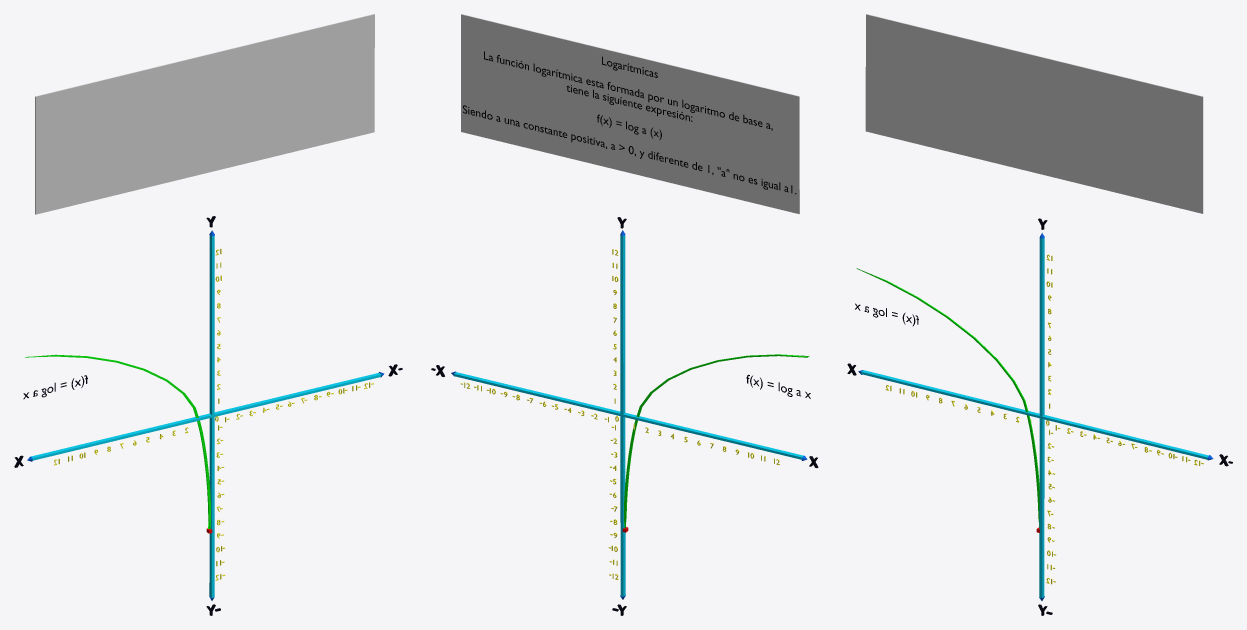
The model's file is tras-f-logaritmica.fbx.
The picture shows the model from 3 angles, left to right: view 1: azimuth 30°, elevation 25°; view 2: azimuth 150°, elevation 25°; view 3: azimuth 330°, elevation 25°; orthographic projection.
Parts seen in each view (by area): view 1: Cubo.005, Cubo.001, Cubo, Surface.002; view 2: Cubo.005, Text.025, Cubo.001, Cubo, Surface.002; view 3: Cubo.005, Cubo.001, Cubo, Surface.002.
Boxes of the visible parts, x1=… form: Cubo.005: x1=35, y1=14, x2=374, y2=214; Cubo.001: x1=209, y1=235, x2=214, y2=597; Cubo: x1=29, y1=373, x2=381, y2=460; Surface.002: x1=25, y1=354, x2=210, y2=528; Cubo.005: x1=461, y1=14, x2=799, y2=213; Text.025: x1=463, y1=51, x2=796, y2=194; Cubo.001: x1=620, y1=235, x2=625, y2=596; Cubo: x1=454, y1=372, x2=803, y2=459; Surface.002: x1=624, y1=354, x2=809, y2=528; Cubo.005: x1=865, y1=14, x2=1203, y2=213; Cubo.001: x1=1039, y1=238, x2=1044, y2=597; Cubo: x1=860, y1=370, x2=1208, y2=459; Surface.002: x1=856, y1=268, x2=1039, y2=527.
Size of the model in its own units: 599 by 832 by 8.65.
